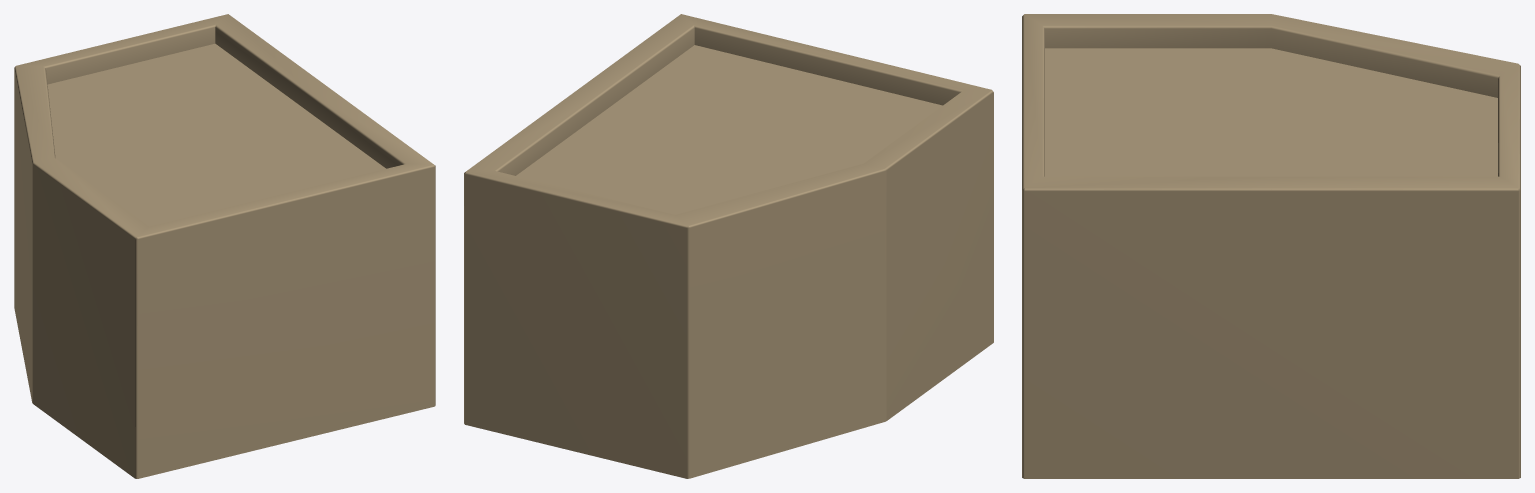
The picture shows the model from 3 angles, left to right: view 1: azimuth 30°, elevation 25°; view 2: azimuth 150°, elevation 25°; view 3: azimuth 270°, elevation 25°; orthographic projection. The views are drawn at different scales.
Parts seen in each view (by area): view 1: polySurface105; view 2: polySurface105; view 3: polySurface105.
Part boxes in pixels (x1,y1,x2,y2): polySurface105: (14,14,435,478); polySurface105: (464,14,993,478); polySurface105: (1022,14,1520,478).
Bounding box in the file's own units: 803 × 616 × 961.
